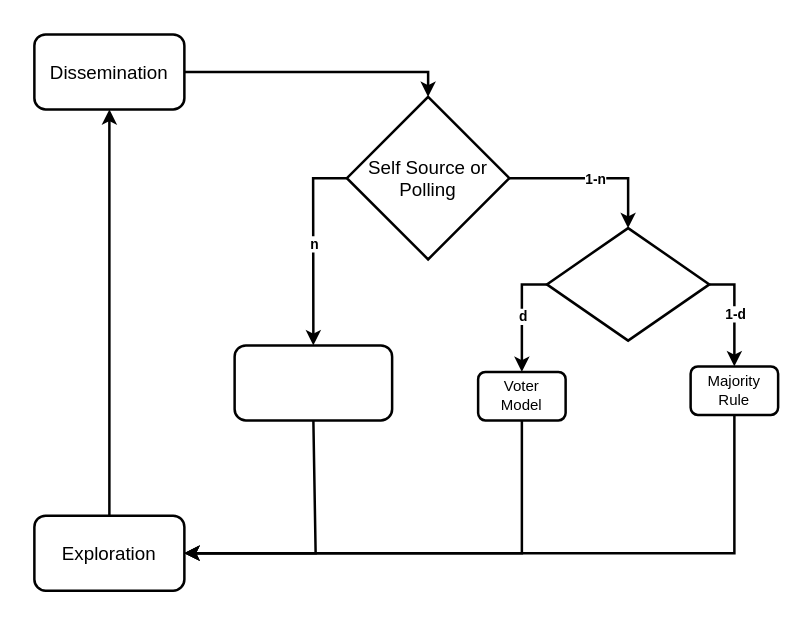
Image size: 800x618. Some labels were removed from this diagram. Each missing label, with the centre of its shape:
Self-Sourcong from Grid: pixel 313 382
Voter Model or Majority Voting: pixel 627 283
